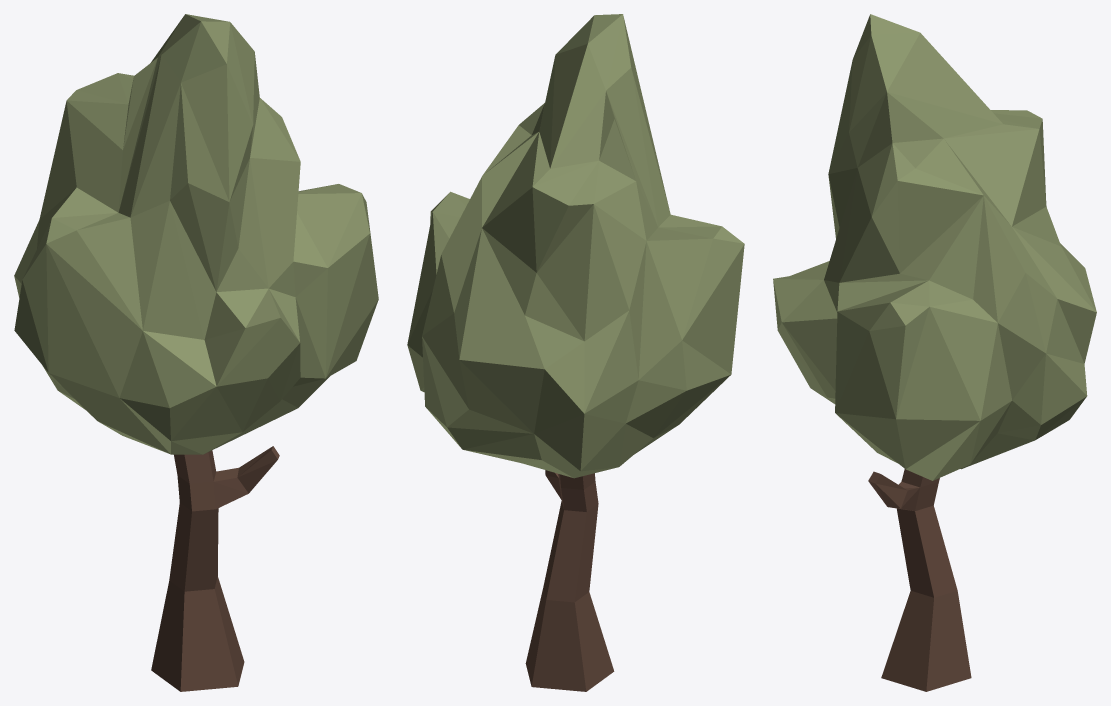
Rendered from SM_Tree_01.fbx.
3 renders of one model, left to right at view 1: azimuth 30°, elevation 25°; view 2: azimuth 150°, elevation 25°; view 3: azimuth 270°, elevation 25°, orthographic. The views are drawn at different scales.
Parts seen in each view (by area): view 1: SM_Tree_01; view 2: SM_Tree_01; view 3: SM_Tree_01.
Part boxes in pixels (<box>): SM_Tree_01: <box>14,14,378,691</box>; SM_Tree_01: <box>407,14,744,691</box>; SM_Tree_01: <box>773,14,1096,691</box>.
Bounding box in the file's own units: 125 × 245 × 111.
Materials: 1 (1 with a texture image).
